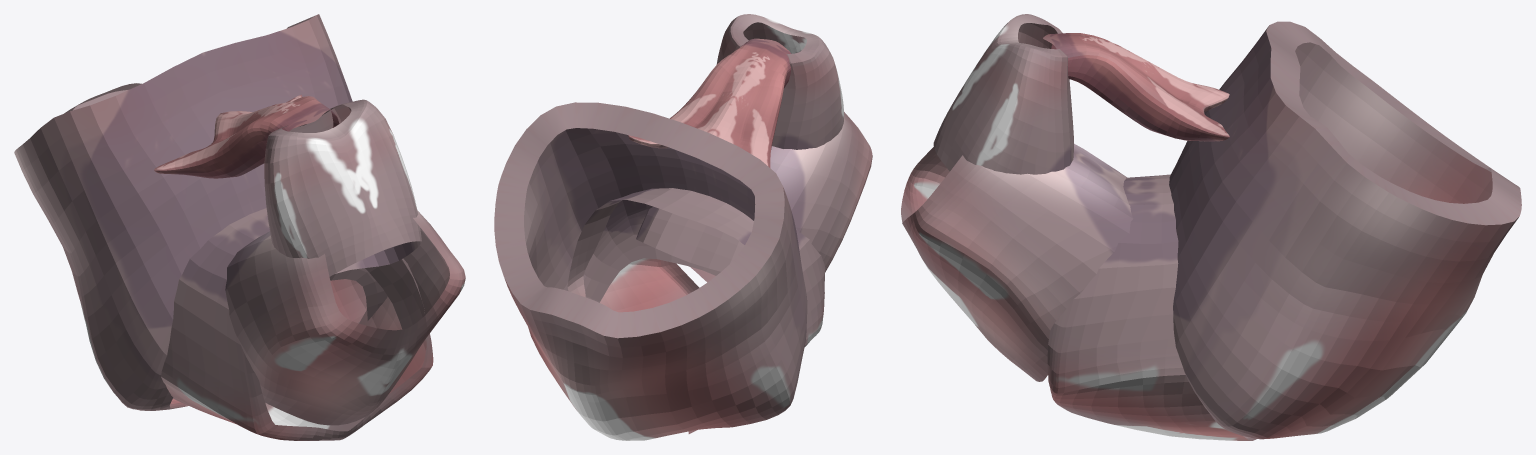
The model's file is shellobject.fbx.
3 views of the same model, side by side, from view 1: azimuth 30°, elevation 25°; view 2: azimuth 150°, elevation 25°; view 3: azimuth 270°, elevation 25° (orthographic). The views are drawn at different scales.
Parts seen in each view (by area): view 1: shell1_GEO, shell3_GEO, shell4_GEO, shell2_GEO, shell5_GEO; view 2: shell1_GEO, shell3_GEO, shell2_GEO, shell5_GEO, shell4_GEO; view 3: shell1_GEO, shell3_GEO, shell2_GEO, shell4_GEO, shell5_GEO.
Part boxes in pixels (bbox=[...]): shell1_GEO: bbox=[14, 14, 387, 410]; shell3_GEO: bbox=[225, 211, 465, 425]; shell4_GEO: bbox=[264, 99, 421, 276]; shell2_GEO: bbox=[161, 208, 433, 440]; shell5_GEO: bbox=[154, 94, 339, 178]; shell1_GEO: bbox=[494, 102, 807, 440]; shell3_GEO: bbox=[636, 112, 872, 282]; shell2_GEO: bbox=[567, 188, 825, 346]; shell5_GEO: bbox=[628, 38, 791, 167]; shell4_GEO: bbox=[716, 14, 843, 149]; shell1_GEO: bbox=[1169, 21, 1521, 439]; shell3_GEO: bbox=[901, 143, 1133, 381]; shell2_GEO: bbox=[1047, 174, 1256, 440]; shell4_GEO: bbox=[933, 14, 1073, 174]; shell5_GEO: bbox=[1043, 33, 1229, 141].
Bounding box in the file's own units: 1.44 × 1.64 × 2.34.
Materials: 5 (5 with a texture image).
